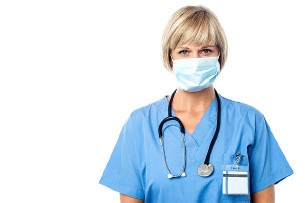Mask: (174, 42, 221, 89)
